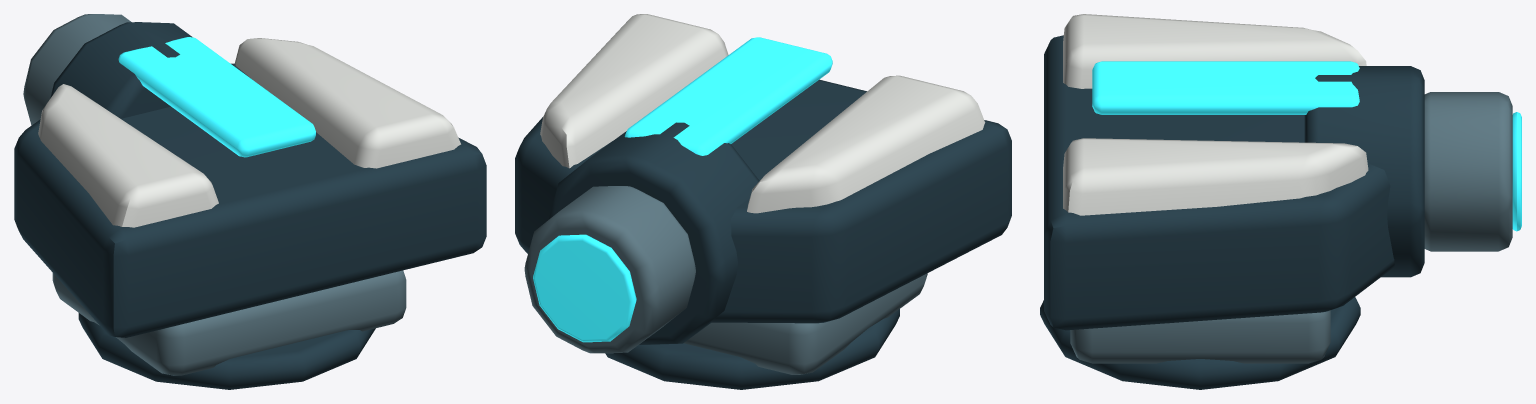
File: pulse_laser.glb
3 views of the same model, side by side, from view 1: azimuth 30°, elevation 25°; view 2: azimuth 150°, elevation 25°; view 3: azimuth 270°, elevation 25° (orthographic). The views are drawn at different scales.
Parts seen in each view (by area): view 1: WeaponArmor, RotationBearing; view 2: WeaponArmor, RotationBearing; view 3: WeaponArmor, RotationBearing.
Part boxes in pixels (x1=…): WeaponArmor: x1=14, y1=14, x2=486, y2=375; RotationBearing: x1=78, y1=313, x2=375, y2=389; WeaponArmor: x1=515, y1=14, x2=1011, y2=374; RotationBearing: x1=605, y1=309, x2=899, y2=389; WeaponArmor: x1=1044, y1=14, x2=1521, y2=363; RotationBearing: x1=1040, y1=297, x2=1360, y2=389.
Bounding box in the file's own units: 1.16 × 0.6897 × 1.2.
